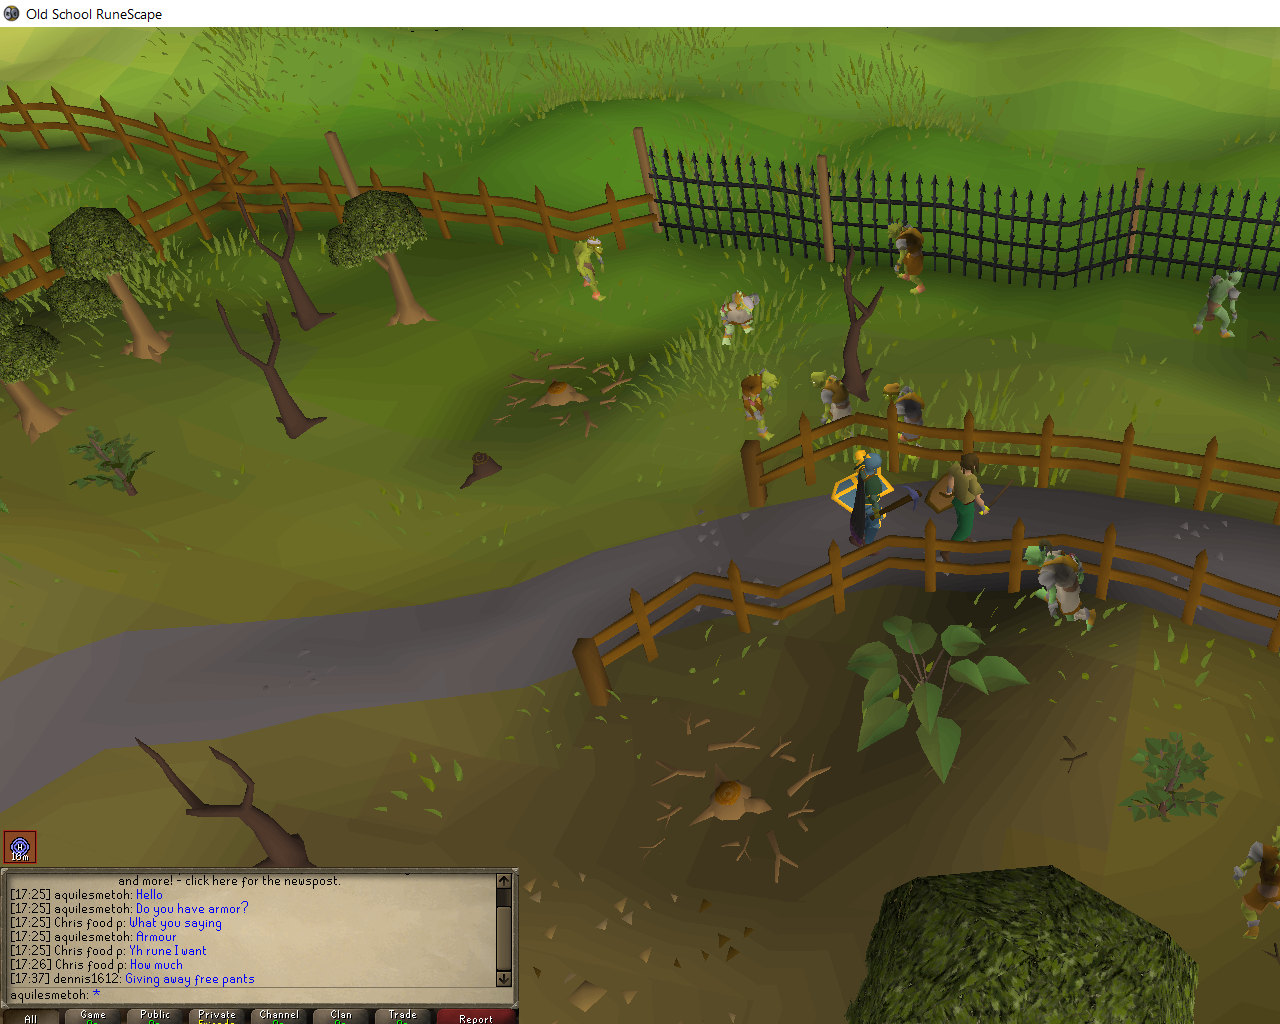Goblin: (1019, 538, 1106, 637), (1225, 821, 1280, 947), (1189, 260, 1248, 346), (880, 379, 932, 465), (881, 219, 936, 297), (804, 366, 857, 443), (735, 367, 784, 444), (563, 234, 611, 302), (715, 287, 763, 348)
